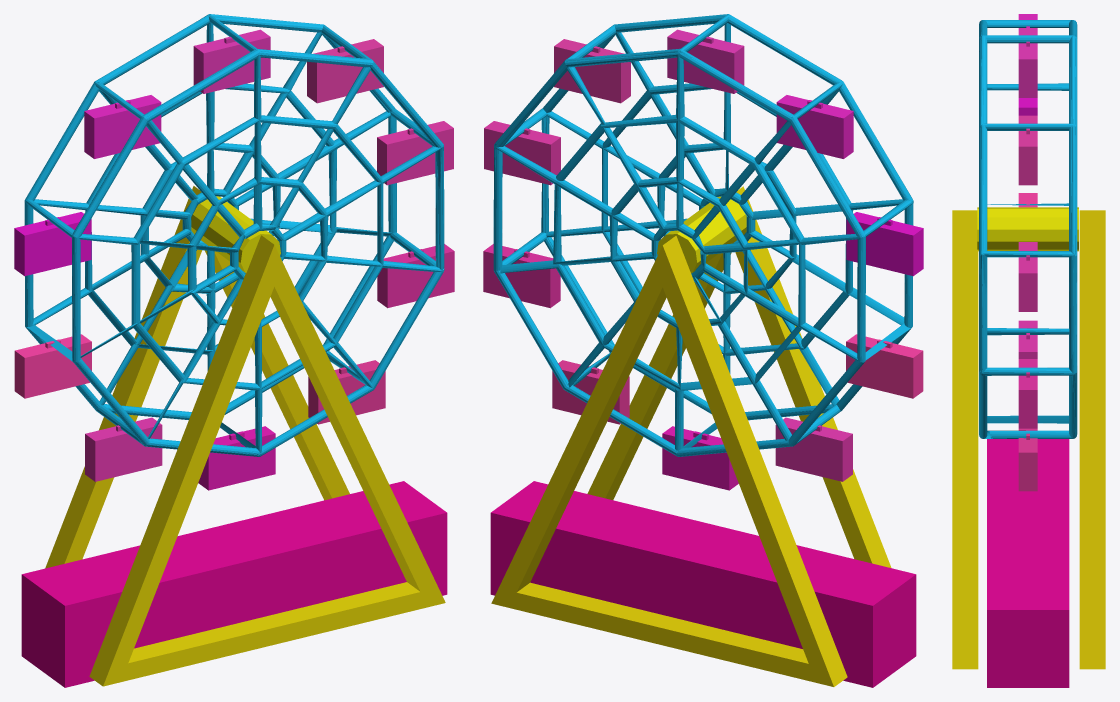
The model's file is ferris.glb.
3 views of the same model, side by side, from view 1: azimuth 30°, elevation 25°; view 2: azimuth 150°, elevation 25°; view 3: azimuth 270°, elevation 25° (orthographic). The views are drawn at different scales.
Visible parts, largest first — view 1: Cylinder, Cube, Plane.001, Plane, v.003, v.004, v.005, v.006, v.007, v.009, v.010, v.008 (+3 smaller); view 2: Cylinder, Cube, Plane, Plane.001, v.003, v.004, v.005, v.006, v.007, v.009, v.008, v.010 (+3 smaller); view 3: Cube, Cylinder, Plane, Plane.001, Cylinder.001, v.008, v.009, v.010, v.007, v.002, v.003, v.005 (+1 smaller).
Part boxes in pixels (left/top/right/bottom): Cylinder: left=24, top=14, right=444, bottom=456; Cube: left=21, top=481, right=447, bottom=687; Plane.001: left=89, top=235, right=445, bottom=686; Plane: left=45, top=186, right=349, bottom=568; v.003: left=85, top=417, right=162, bottom=481; v.004: left=14, top=334, right=91, bottom=398; v.005: left=14, top=212, right=91, bottom=276; v.006: left=84, top=95, right=161, bottom=158; v.007: left=193, top=29, right=270, bottom=93; v.009: left=377, top=121, right=453, bottom=185; v.010: left=377, top=244, right=454, bottom=308; v.008: left=307, top=39, right=383, bottom=103; Cylinder: left=493, top=14, right=913, bottom=456; Cube: left=490, top=481, right=916, bottom=687; Plane: left=491, top=236, right=847, bottom=686; Plane.001: left=587, top=186, right=891, bottom=567; v.003: left=775, top=417, right=852, bottom=481; v.004: left=846, top=334, right=923, bottom=398; v.005: left=846, top=212, right=923, bottom=276; v.006: left=776, top=95, right=853, bottom=158; v.007: left=667, top=29, right=744, bottom=93; v.009: left=484, top=121, right=560, bottom=185; v.008: left=554, top=39, right=630, bottom=103; v.010: left=483, top=244, right=560, bottom=308; Cube: left=987, top=439, right=1069, bottom=687; Cylinder: left=979, top=20, right=1077, bottom=438; Plane: left=1079, top=210, right=1105, bottom=669; Plane.001: left=952, top=210, right=978, bottom=669; Cylinder.001: left=977, top=207, right=1078, bottom=251; v.008: left=1018, top=115, right=1037, bottom=185; v.009: left=1018, top=242, right=1037, bottom=311; v.010: left=1018, top=359, right=1037, bottom=428; v.007: left=1018, top=28, right=1037, bottom=97; v.002: left=1018, top=428, right=1037, bottom=491; v.003: left=1018, top=320, right=1037, bottom=358; v.005: left=1018, top=98, right=1037, bottom=115.
Bounding box in the file's own units: 2.25 × 2.97 × 0.7319.
